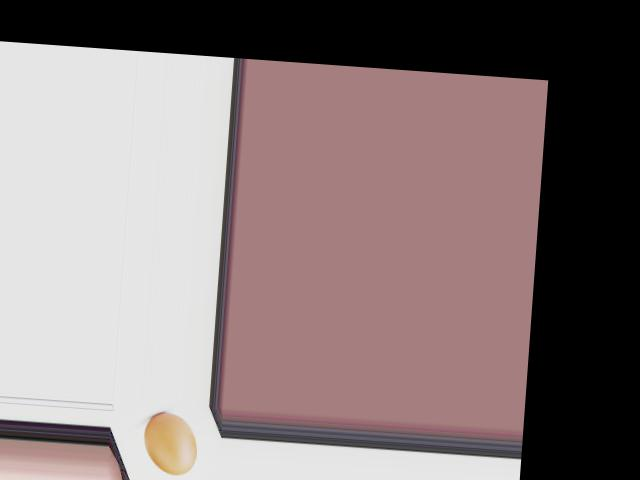egg: (141, 411, 198, 476)
